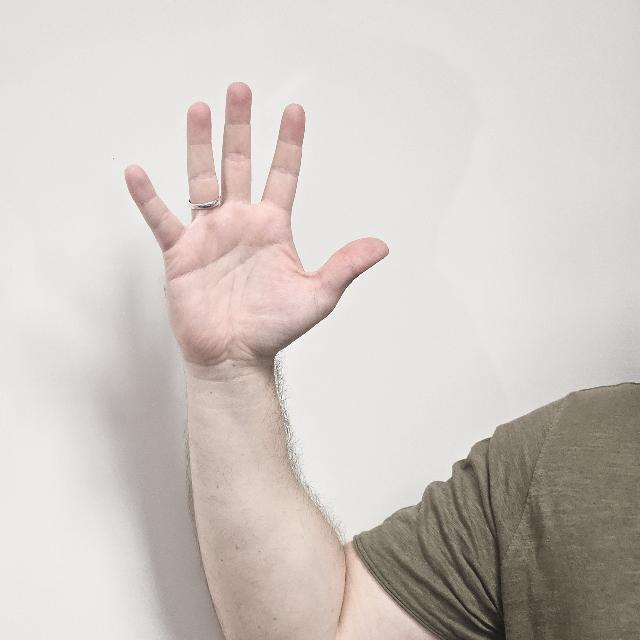X: (120, 78, 390, 442)
